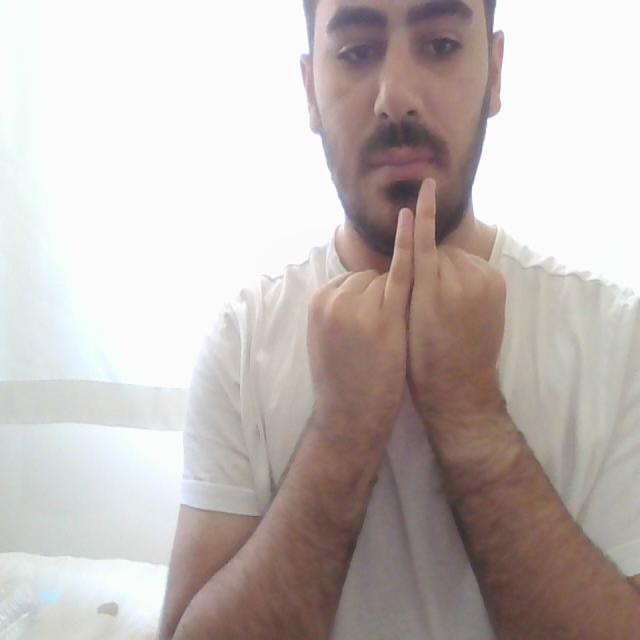Kardes: (304, 175, 508, 438)
